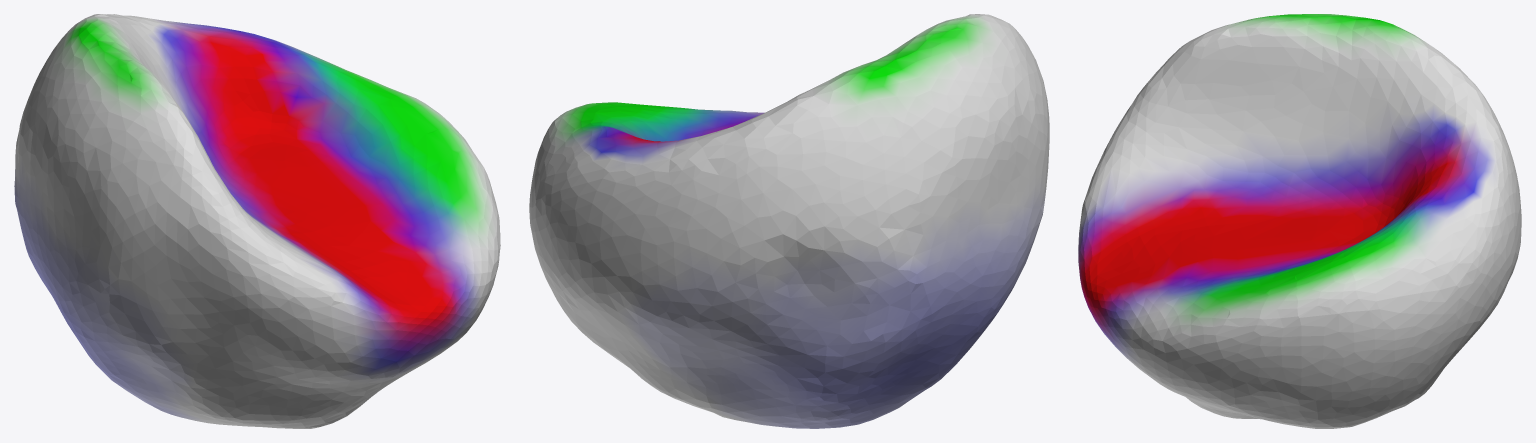
Rendered from Floating Island SmallJump.fbx.
3 renders of one model, left to right at view 1: azimuth 30°, elevation 25°; view 2: azimuth 150°, elevation 25°; view 3: azimuth 270°, elevation 25°, orthographic. The views are drawn at different scales.
Parts seen in each view (by area): view 1: Sphere; view 2: Sphere; view 3: Sphere.
Boxes of the visible parts, x1,y1,x2,y2 form: Sphere: [14, 14, 500, 428]; Sphere: [529, 14, 1049, 428]; Sphere: [1078, 14, 1521, 428].
Size of the model in its own units: 187 by 164 by 193.
